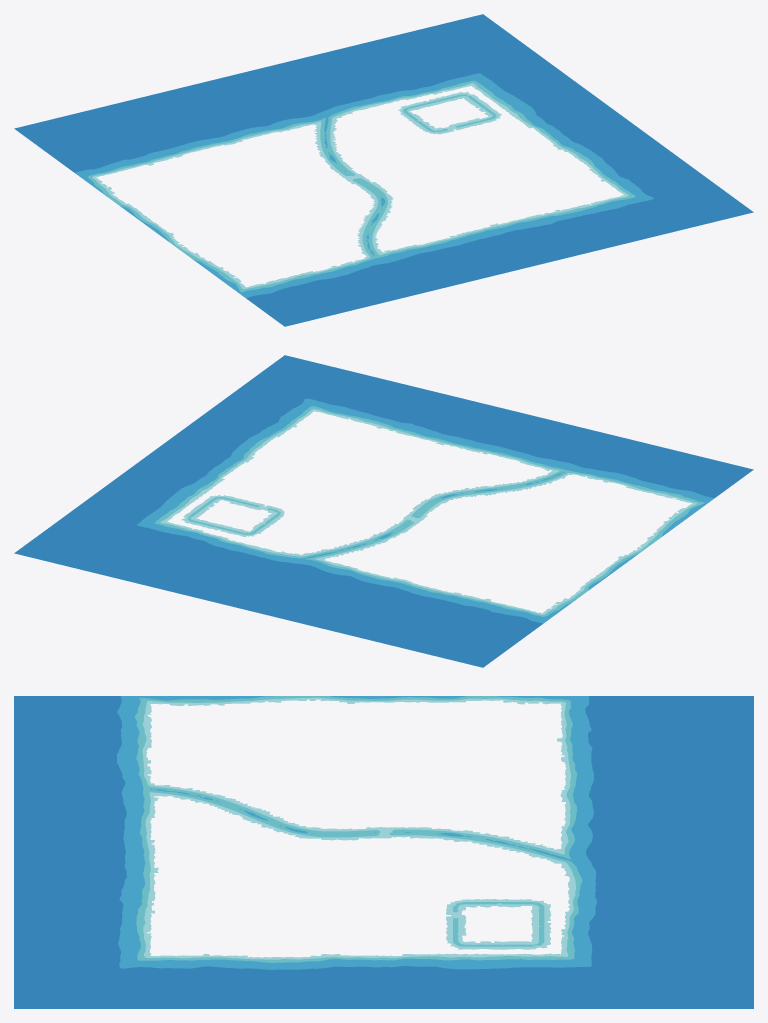
File: Map-M3-Water.fbx
3 renders of one model, top to bottom at view 1: azimuth 30°, elevation 25°; view 2: azimuth 150°, elevation 25°; view 3: azimuth 270°, elevation 25°, orthographic. The views are drawn at different scales.
Visible parts, largest first — view 1: Map-M3-Water; view 2: Map-M3-Water; view 3: Map-M3-Water.
Boxes of the visible parts, x1,y1,x2,y2 form: Map-M3-Water: [14, 14, 753, 326]; Map-M3-Water: [14, 355, 753, 667]; Map-M3-Water: [14, 696, 753, 1008].
Size of the model in its own units: 200 by 0 by 200.
